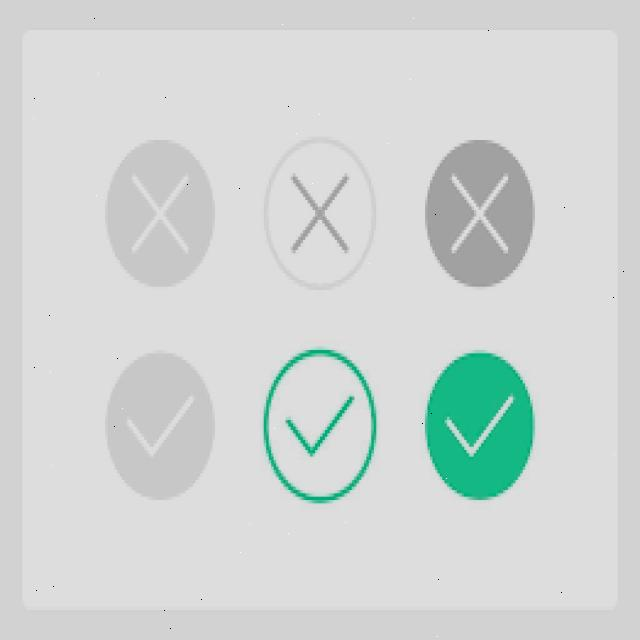checkbox: (262, 348, 377, 503), (264, 135, 377, 286), (426, 140, 536, 292), (104, 354, 218, 500), (427, 348, 537, 499), (105, 139, 214, 289)
